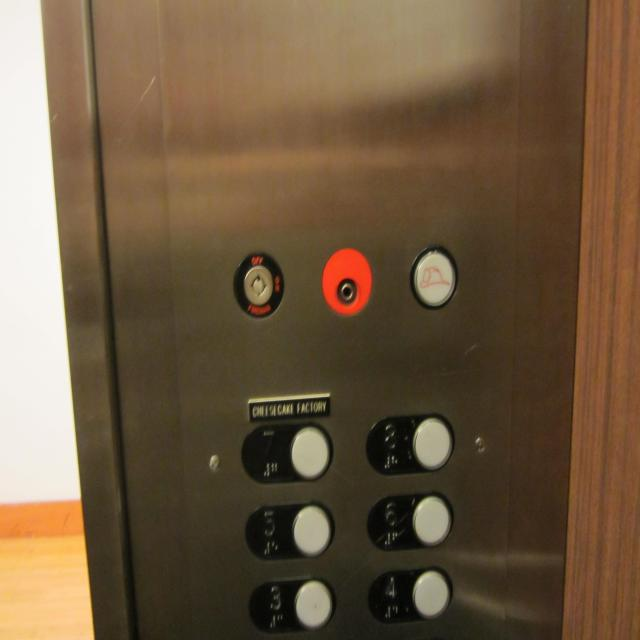3: (247, 573, 337, 637)
4: (366, 565, 455, 626)
5: (244, 500, 336, 562)
6: (364, 490, 456, 552)
7: (238, 417, 334, 486)
8: (364, 410, 456, 478)
hat: (410, 244, 460, 312)
keyhole: (233, 248, 284, 322), (322, 248, 372, 317)
